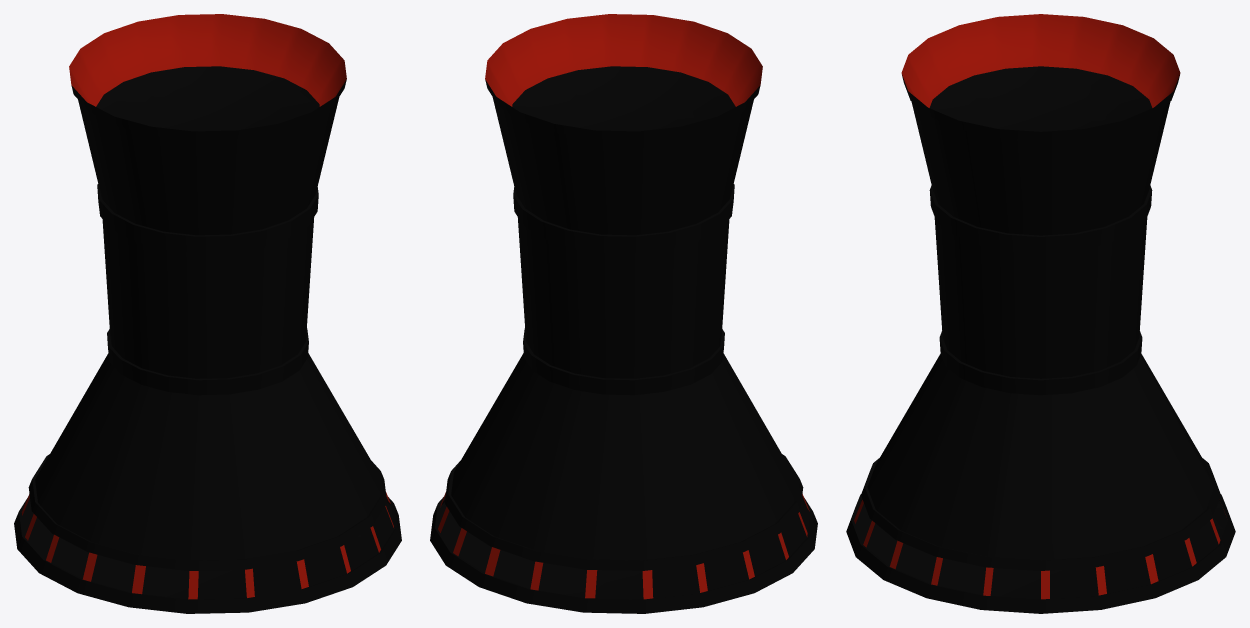
Rendered from red.fbx.
3 views of the same model, side by side, from view 1: azimuth 30°, elevation 25°; view 2: azimuth 150°, elevation 25°; view 3: azimuth 270°, elevation 25° (orthographic).
Parts seen in each view (by area): view 1: pasted__pCylinder1; view 2: pasted__pCylinder1; view 3: pasted__pCylinder1.
Boxes of the visible parts, bbox=[...] form: pasted__pCylinder1: bbox=[14, 14, 401, 613]; pasted__pCylinder1: bbox=[430, 14, 817, 613]; pasted__pCylinder1: bbox=[846, 14, 1235, 613].
Size of the model in its own units: 25.63 by 33.36 by 25.63.
